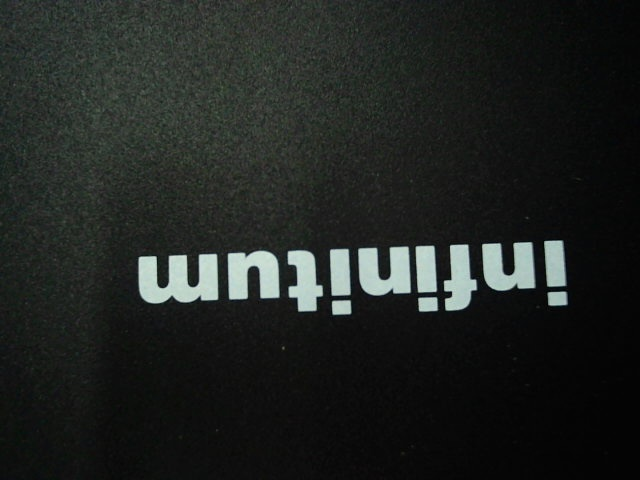BK_infinitum: (113, 214, 579, 333)
